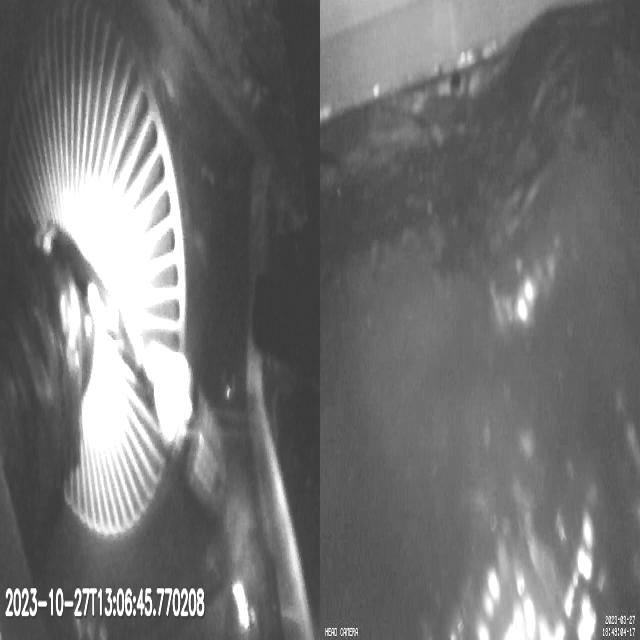head: (154, 348, 225, 509)
